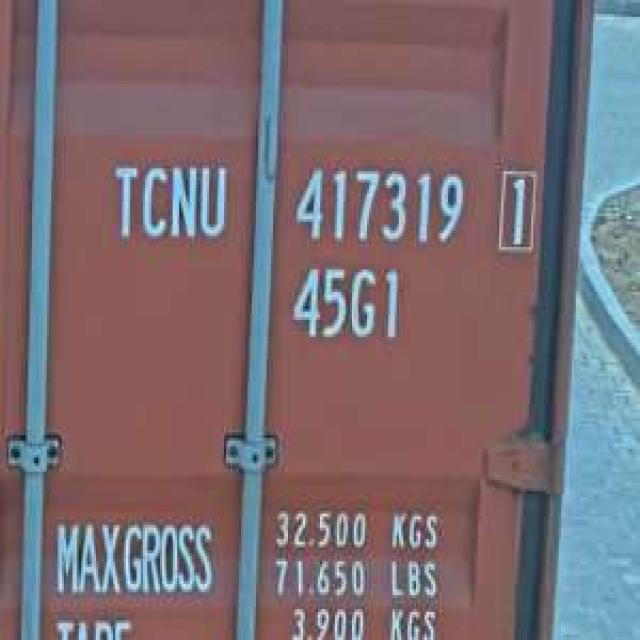dv: (490, 160, 540, 258)
owner: (105, 154, 232, 250)
serial: (288, 157, 469, 255)
size: (286, 258, 407, 351)
